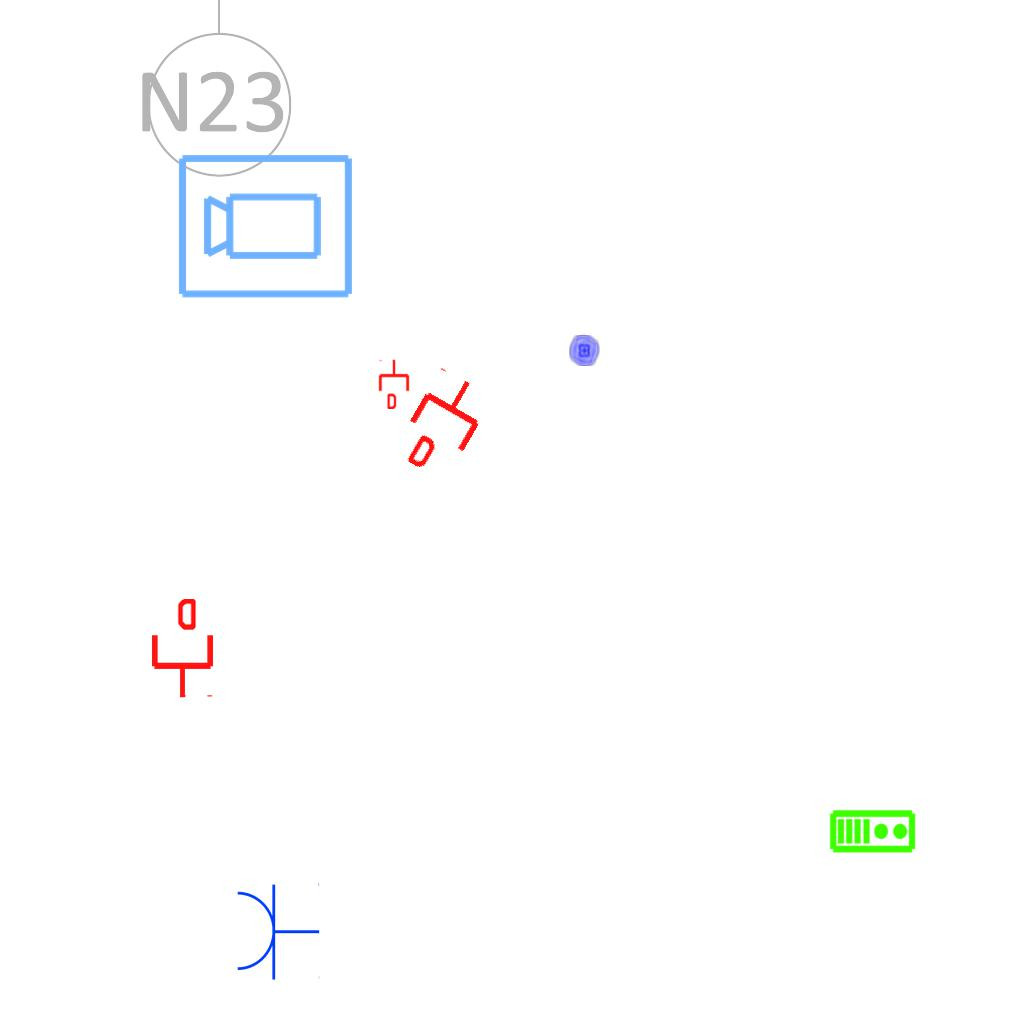Datenanschluss_einfach: (388, 363, 499, 485), (148, 599, 217, 699), (377, 359, 411, 409)
Gegensprechanlage_mit_Video: (829, 807, 917, 854)
KFO_Kamera_mit_Festobjektiv: (175, 148, 357, 302)
Schukosteckdose_einfach: (233, 881, 320, 981)
Taster_beleuchtet: (567, 333, 602, 368)
